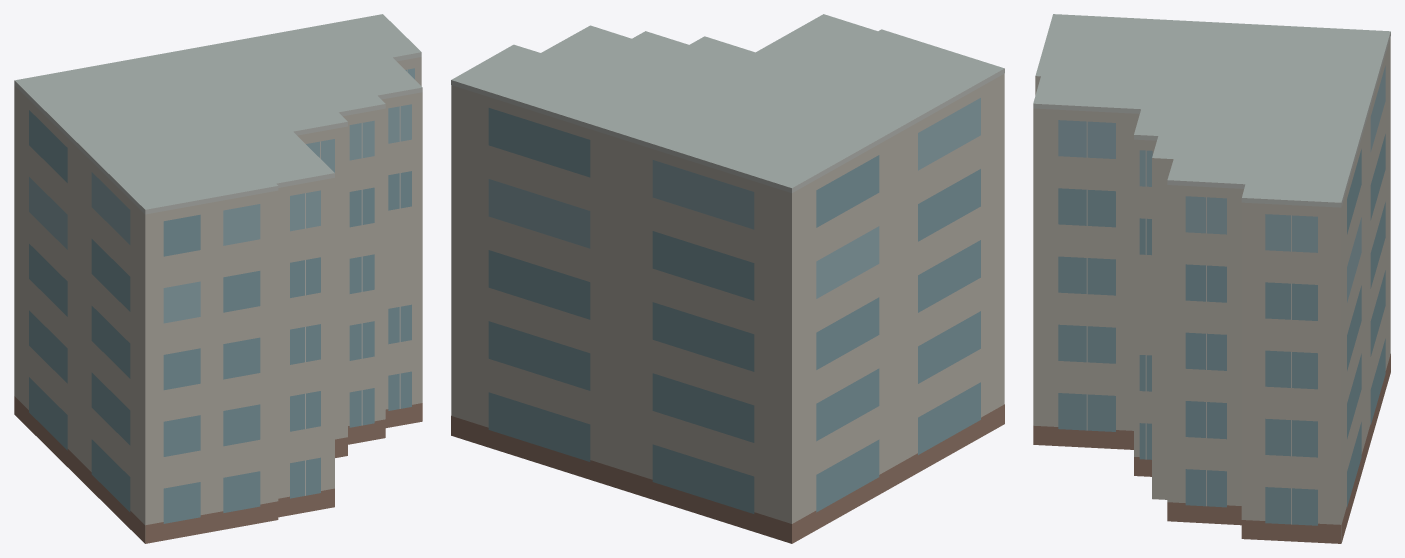
Rendered from survey-upis-32903162.glb.
The picture shows the model from 3 angles, left to right: view 1: azimuth 30°, elevation 25°; view 2: azimuth 150°, elevation 25°; view 3: azimuth 270°, elevation 25°; orthographic projection. The views are drawn at different scales.
Visible parts, largest first — view 1: survey-upis-32903162.tmp; view 2: survey-upis-32903162.tmp; view 3: survey-upis-32903162.tmp.
Boxes of the visible parts, <box> form: survey-upis-32903162.tmp: <box>14,14,422,543</box>; survey-upis-32903162.tmp: <box>451,14,1004,543</box>; survey-upis-32903162.tmp: <box>1033,14,1390,543</box>.
Bounding box in the file's own units: 20.54 × 17.3 × 16.45.
